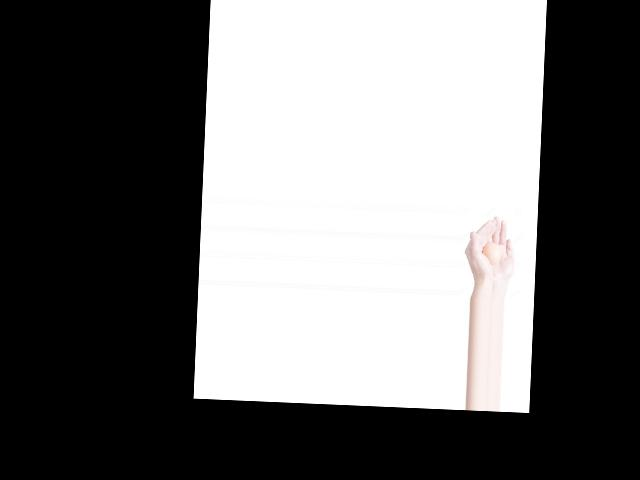egg: (482, 241, 500, 263)
